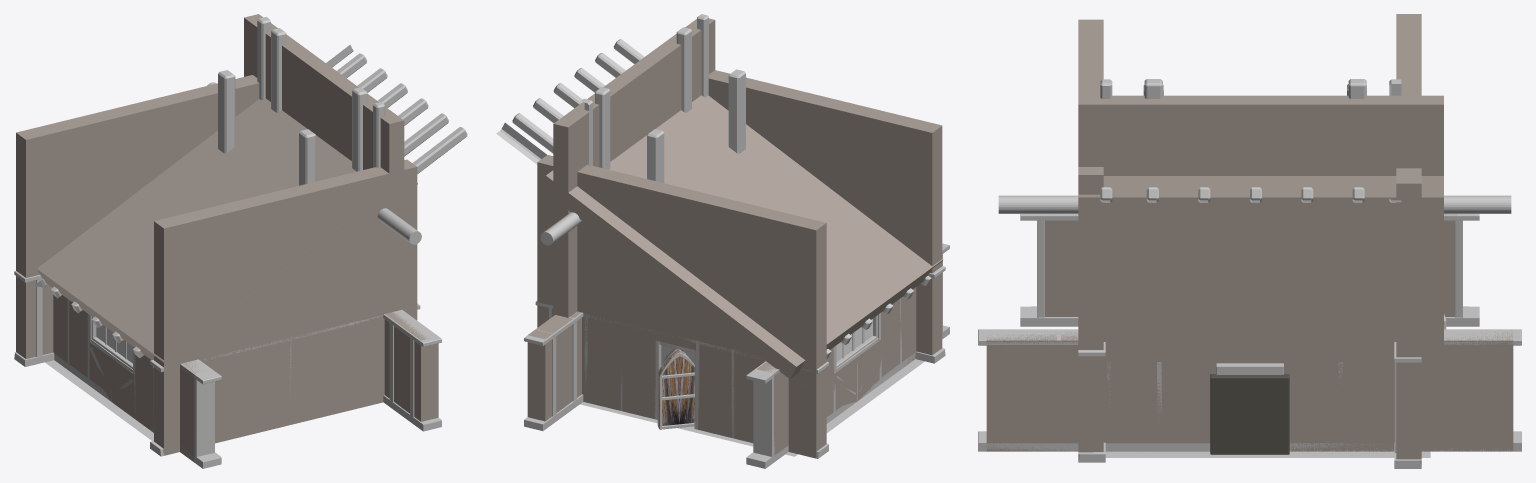
Rendered from pub_WithTak.fbx.
3 renders of one model, left to right at view 1: azimuth 30°, elevation 25°; view 2: azimuth 150°, elevation 25°; view 3: azimuth 270°, elevation 25°, orthographic. The views are drawn at different scales.
Visible parts, largest first — view 1: Fyllning.006, fyllningtak, Fyllning.003, takVäggFyllning, Fyllning.004, Fyllning.002, takblälke?.001, takVäggBjälke, HuvudBjälke_vertikal, Reglar_stående.004, Reglar_liggande.004, Reglar_liggande.002 (+7 smaller); view 2: Fyllning.003, fyllningtak, Fyllning.006, takVäggFyllning, Fyllning.004, Fyllning.002, takblälke?.001, takVäggBjälke, HuvudBjälke_vertikal, Reglar_stående.004, dörr, Reglar_liggande.004 (+8 smaller); view 3: takVäggFyllning, Fyllning.002, Fyllning.003, Fyllning.006, fyllningtak, Spisfyllning.001, Reglar_liggande.002, Fyllning.004, liggangeTakBjälke, Reglar_liggande.004, Golv, Reglar_stående.004 (+3 smaller).
Part boxes in pixels (x1,y1,x2,y2): Fyllning.006: (154, 159, 417, 455); fyllningtak: (37, 98, 417, 373); Fyllning.003: (16, 75, 259, 358); takVäggFyllning: (244, 14, 404, 312); Fyllning.004: (53, 295, 201, 462); Fyllning.002: (384, 311, 438, 421); takblälke?.001: (34, 45, 467, 367); takVäggBjälke: (257, 17, 385, 171); HuvudBjälke_vertikal: (218, 70, 315, 185); Reglar_stående.004: (67, 299, 214, 463); Reglar_liggande.004: (54, 339, 221, 468); Reglar_liggande.002: (383, 310, 441, 431); Fyllning.003: (537, 155, 826, 458); fyllningtak: (539, 95, 943, 378); Fyllning.006: (708, 70, 942, 355); takVäggFyllning: (553, 18, 715, 317); Fyllning.004: (757, 287, 916, 455); Fyllning.002: (527, 311, 581, 421); takblälke?.001: (496, 39, 931, 358); takVäggBjälke: (580, 14, 708, 169); HuvudBjälke_vertikal: (647, 69, 745, 182); Reglar_stående.004: (753, 250, 942, 462); dörr: (658, 349, 694, 428); Reglar_liggande.004: (746, 243, 949, 468); takVäggFyllning: (1078, 95, 1443, 361); Fyllning.002: (986, 330, 1513, 451); Fyllning.003: (1396, 14, 1421, 466); Fyllning.006: (1078, 19, 1103, 459); fyllningtak: (1078, 176, 1443, 197); Spisfyllning.001: (1210, 374, 1289, 454); Reglar_liggande.002: (978, 329, 1521, 451); Fyllning.004: (1045, 214, 1457, 316); liggangeTakBjälke: (998, 195, 1511, 213); Reglar_liggande.004: (1020, 214, 1479, 326); Golv: (1105, 451, 1430, 457); Reglar_stående.004: (1037, 214, 1462, 317).
Bounding box in the file's own units: 932 × 787 × 1068.
